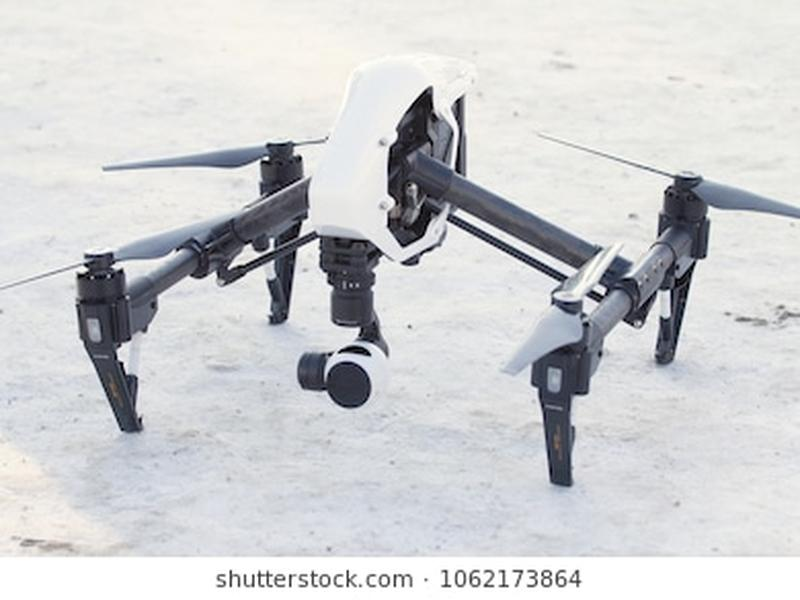Drone: (6, 53, 749, 507)
